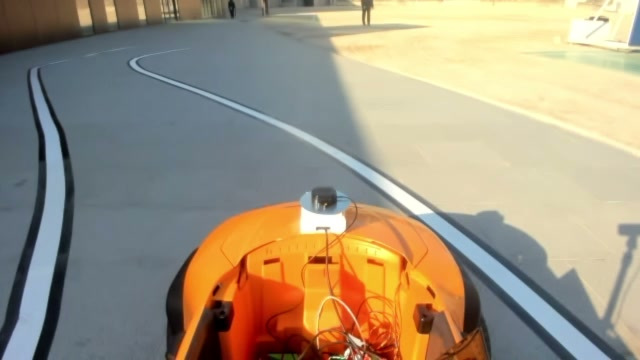Lane: (129, 52, 626, 358), (0, 67, 71, 359)
